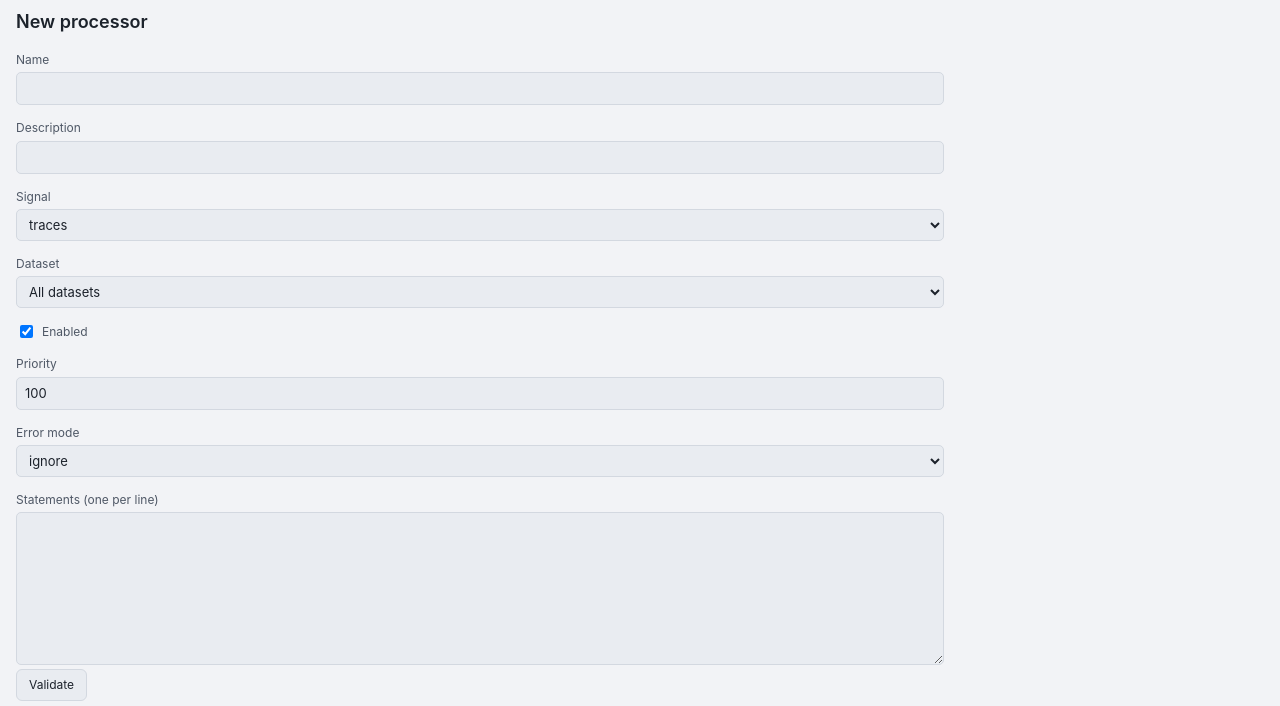
ProcessorEditor › disables Save again after the signal changes post-validation
Type "my-processor" into the field labelled "Name".
click(480, 89); type("my-processor")  # box [16,72,944,105]
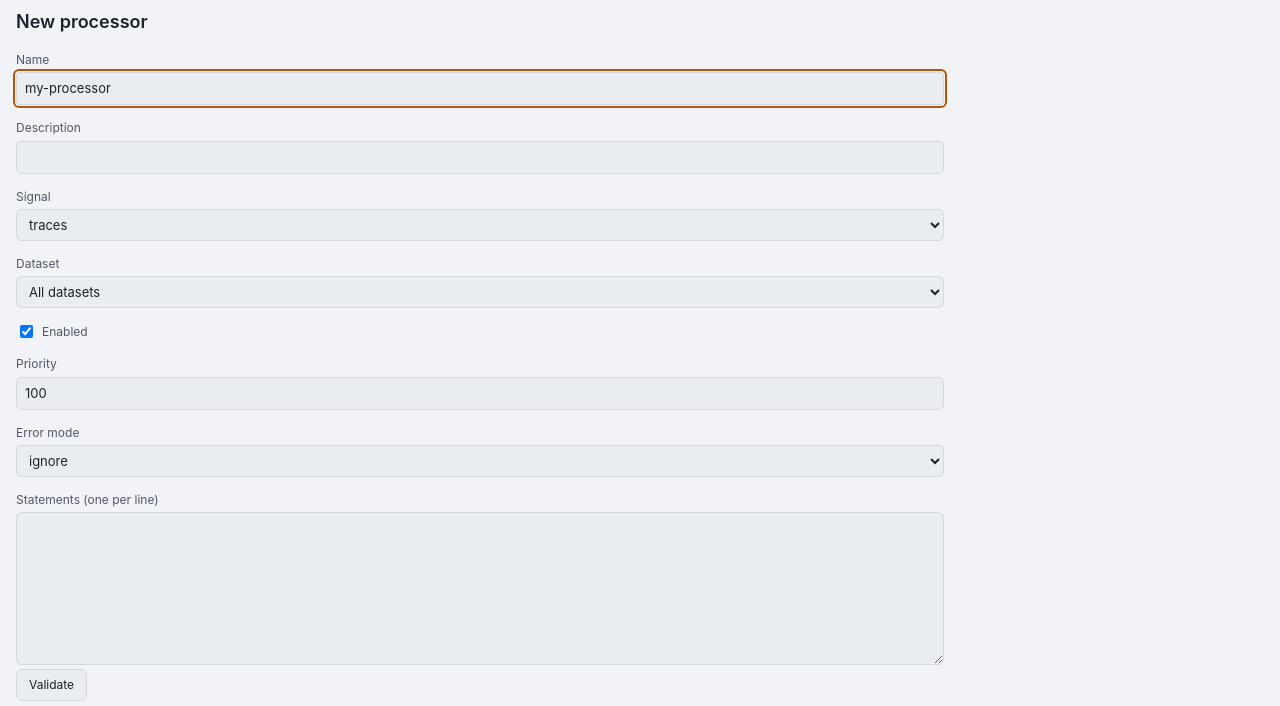
Type "set(attributes[\"a\"], \"1\")" into the text box labelled "Statements (one per line)".
click(480, 589); type("set(attributes[\"a\"], \"1\")")  # box [16,512,944,666]
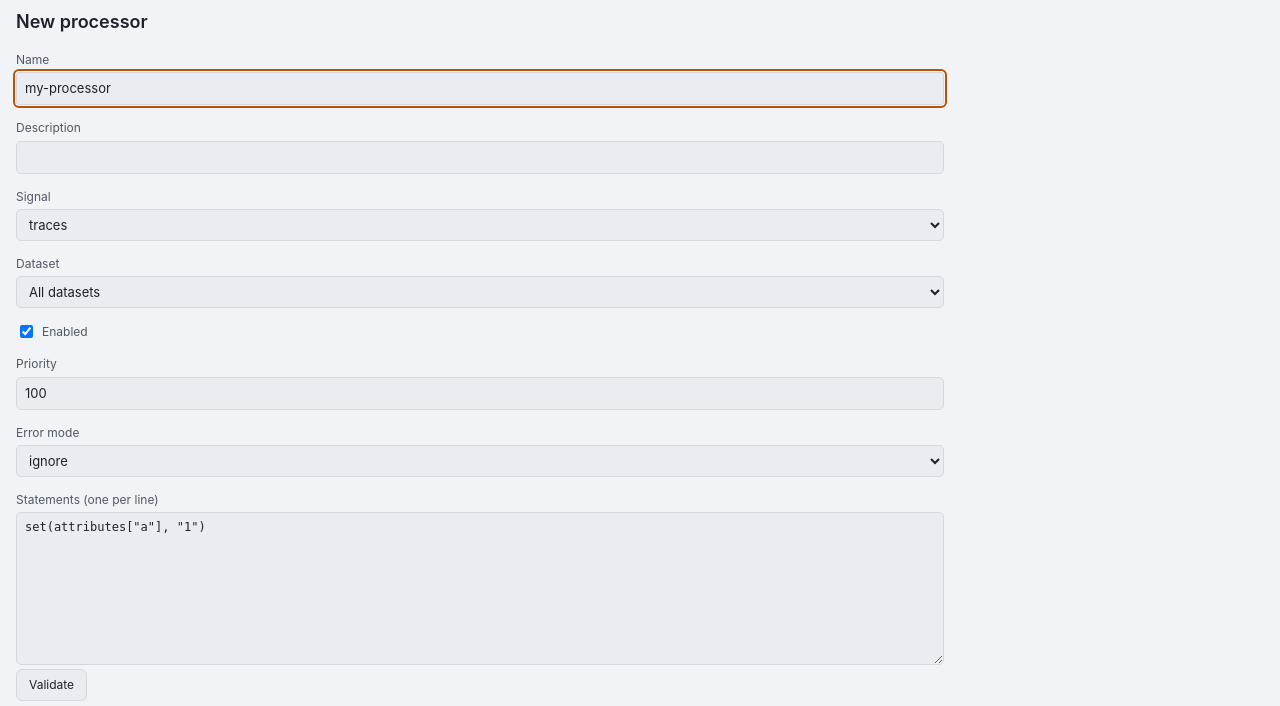
Click the button "Validate".
click(52, 685)  # box [16,670,87,701]
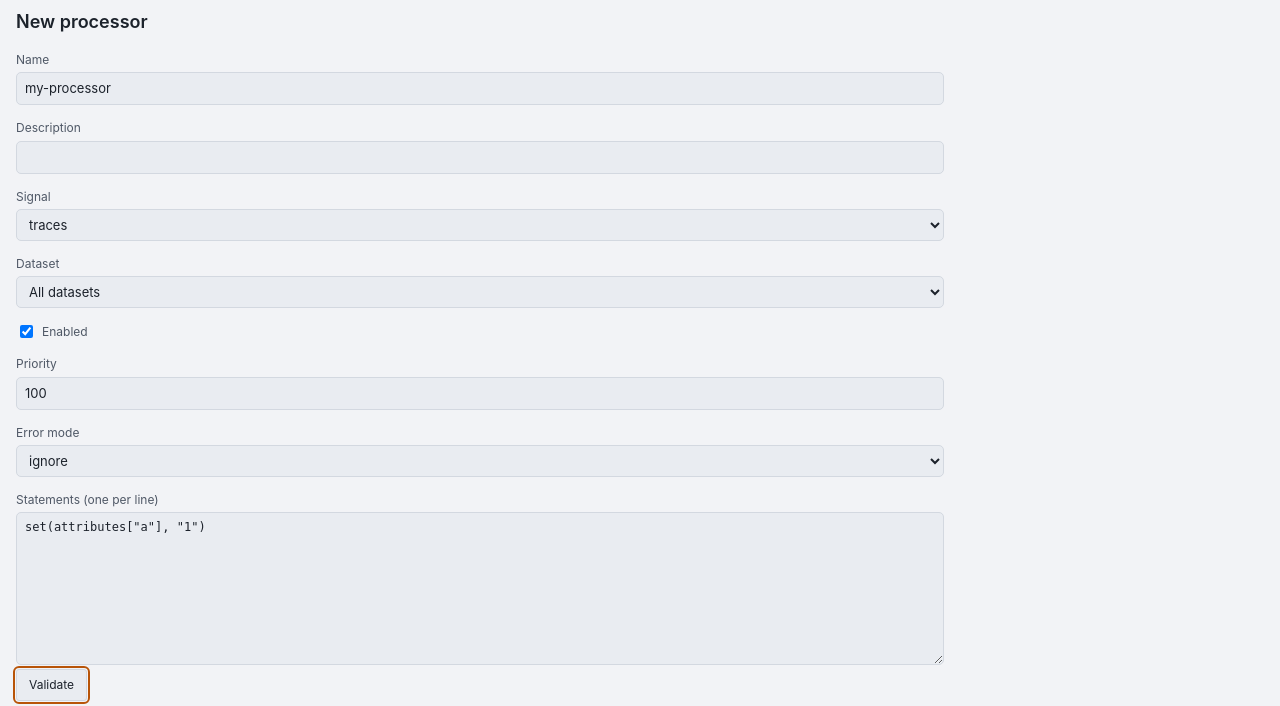
Select "logs" in the dropdown labelled "Signal" at x=480, y=225, box [16,209,944,241]
(page scrolled)
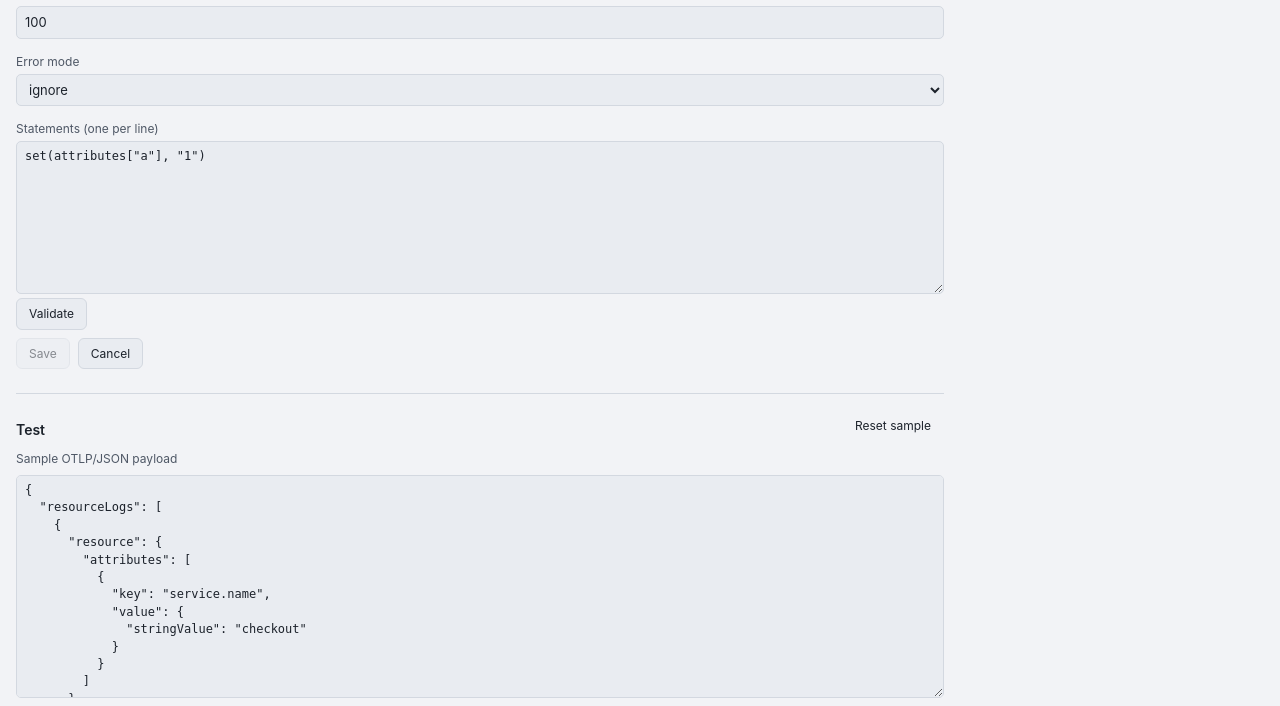
Expected: the button "Save" is disabled, [16,338,70,369]
